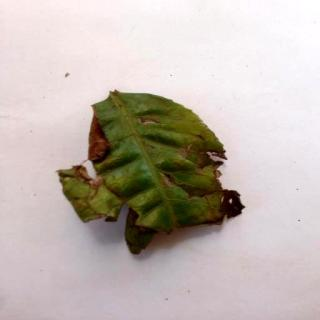Algal Leaf: (60, 92, 246, 257)
